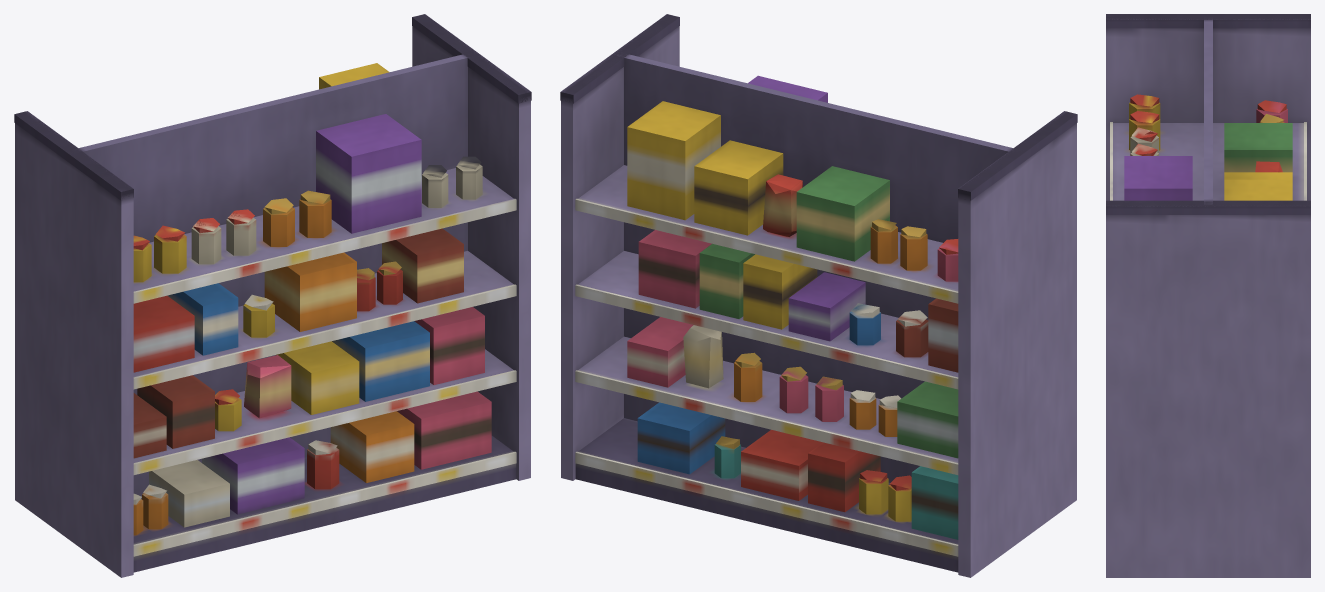
Rendered from Shelf_Aisle_2m.fbx.
The picture shows the model from 3 angles, left to right: view 1: azimuth 30°, elevation 25°; view 2: azimuth 150°, elevation 25°; view 3: azimuth 270°, elevation 25°; orthographic projection. The views are drawn at different scales.
Parts seen in each view (by area): view 1: Shelf_Aisle_2m; view 2: Shelf_Aisle_2m; view 3: Shelf_Aisle_2m.
Part boxes in pixels (x1,y1,x2,y2): Shelf_Aisle_2m: (14,14,531,577); Shelf_Aisle_2m: (560,14,1077,577); Shelf_Aisle_2m: (1106,14,1310,577).
Size of the model in its own units: 2 by 1.8 by 0.9.
Materials: 1 (1 with a texture image).
